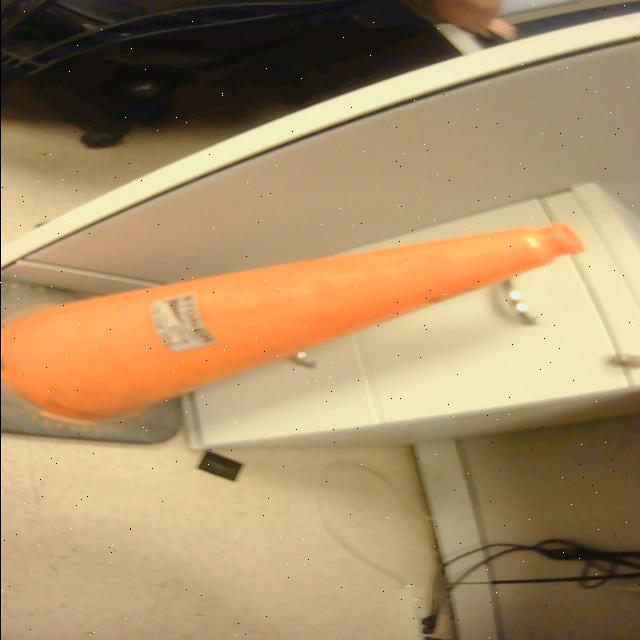traffic cone: (1, 221, 592, 453)
